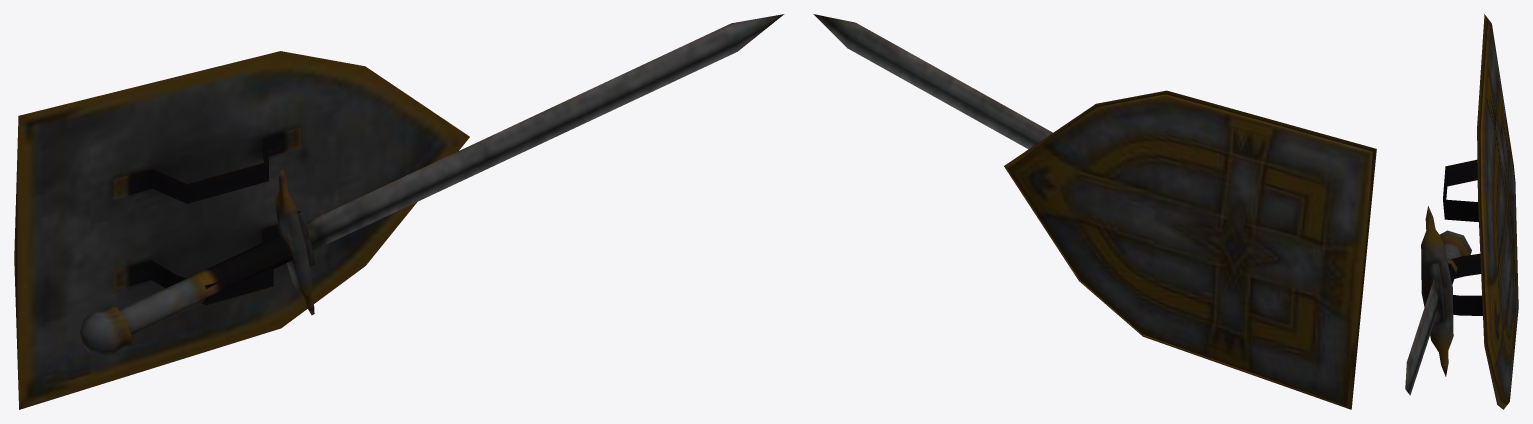
File: props.glb
3 views of the same model, side by side, from view 1: azimuth 30°, elevation 25°; view 2: azimuth 150°, elevation 25°; view 3: azimuth 270°, elevation 25° (orthographic). The views are drawn at different scales.
Visible parts, largest first — view 1: shield, sword; view 2: shield, sword; view 3: shield, sword.
Part boxes in pixels (x1,y1,x2,y2): shield: [14, 51, 469, 409]; sword: [80, 14, 784, 356]; shield: [1004, 90, 1376, 409]; sword: [813, 14, 1052, 149]; shield: [1443, 14, 1518, 409]; sword: [1405, 206, 1471, 395].
Bounding box in the file's own units: 108 × 44.84 × 15.58.
1 material, 1 textured.
